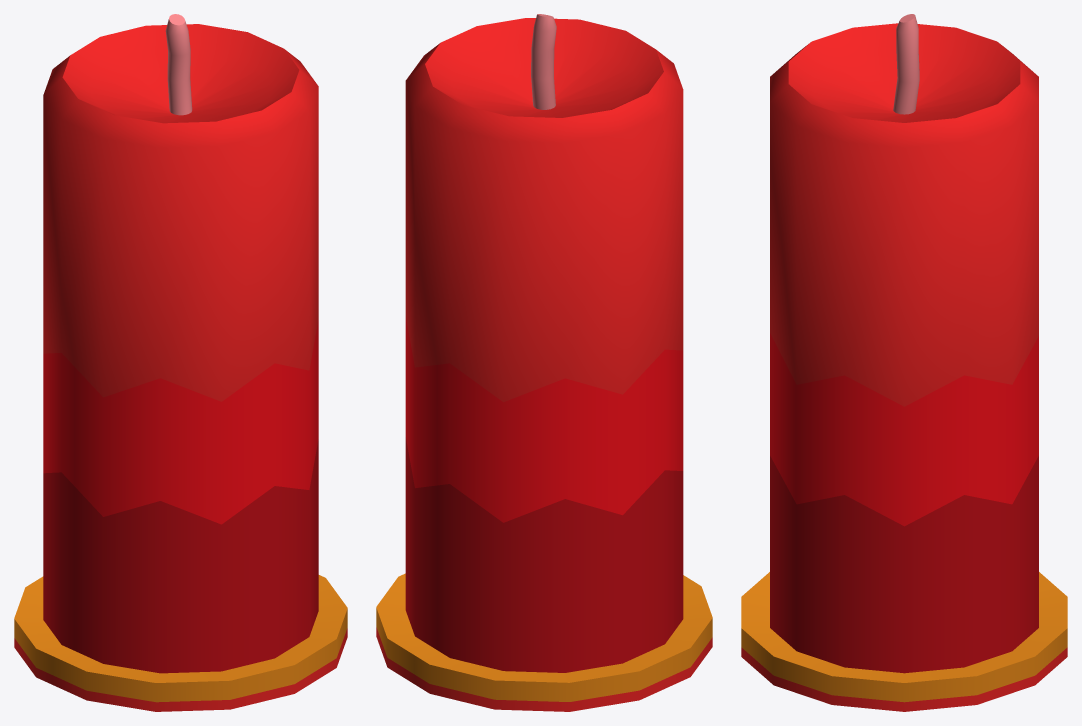
The model's file is Chotbol3-1.fbx.
The picture shows the model from 3 angles, left to right: view 1: azimuth 30°, elevation 25°; view 2: azimuth 150°, elevation 25°; view 3: azimuth 270°, elevation 25°; orthographic projection.
Parts seen in each view (by area): view 1: Chotbol3-1; view 2: Chotbol3-1; view 3: Chotbol3-1.
Part boxes in pixels (x1,y1,x2,y2): Chotbol3-1: (14, 14, 347, 711); Chotbol3-1: (376, 14, 712, 711); Chotbol3-1: (741, 14, 1067, 711).
Bounding box in the file's own units: 0.2611 × 0.5376 × 0.2545.
